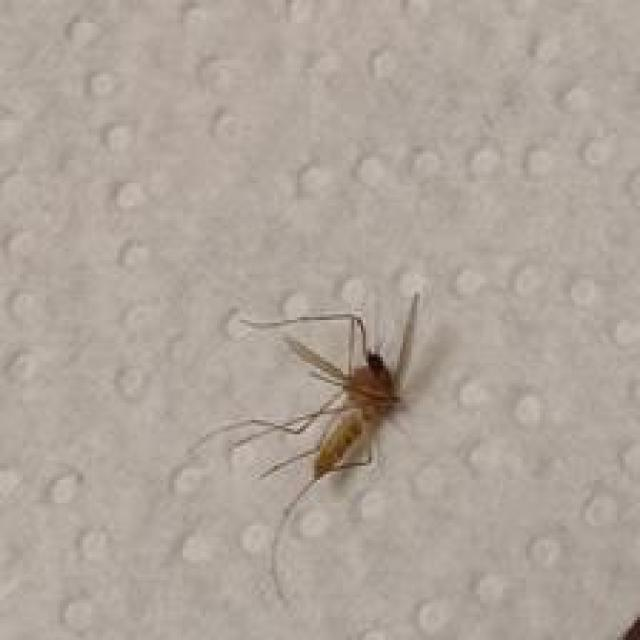Culex: (179, 288, 424, 603)
